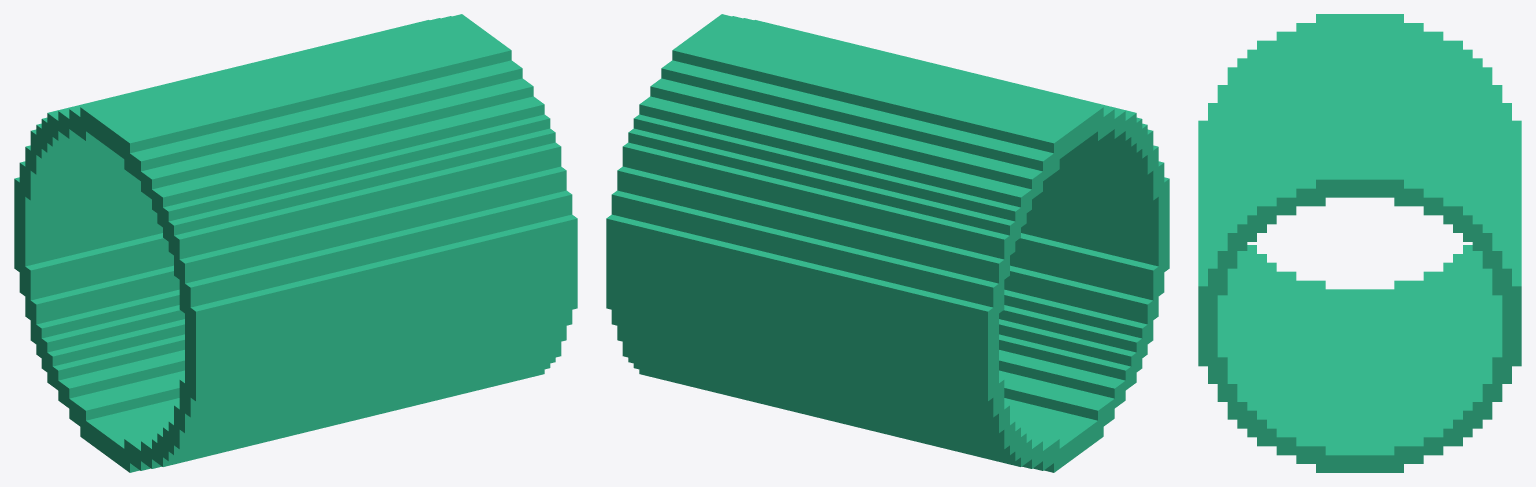
The model's file is GreenTunnel1.dae.
3 renders of one model, left to right at view 1: azimuth 30°, elevation 25°; view 2: azimuth 150°, elevation 25°; view 3: azimuth 270°, elevation 25°, orthographic. The views are drawn at different scales.
Visible parts, largest first — view 1: GreenTunnel1; view 2: GreenTunnel1; view 3: GreenTunnel1.
Part boxes in pixels (x1=…): GreenTunnel1: x1=14, y1=14, x2=577, y2=472; GreenTunnel1: x1=606, y1=14, x2=1169, y2=472; GreenTunnel1: x1=1198, y1=14, x2=1521, y2=472.
Bounding box in the file's own units: 4 × 3.3 × 3.3.
1 material, 1 textured.
